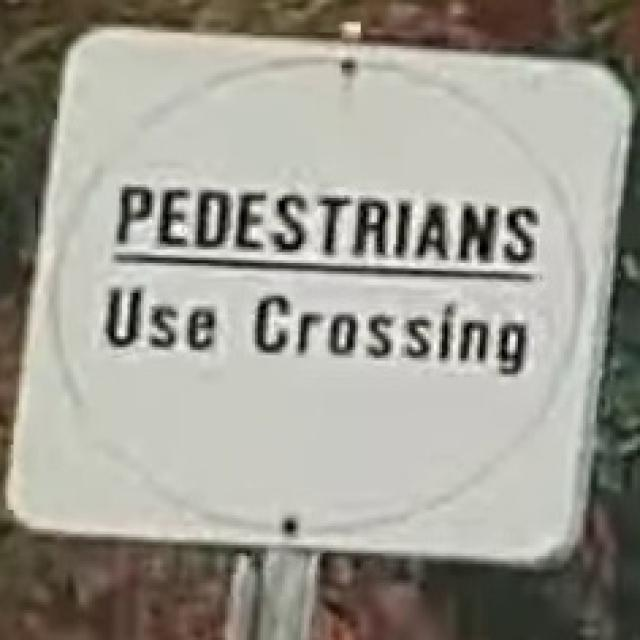pedestriancrossing_sign: (2, 19, 634, 572)
